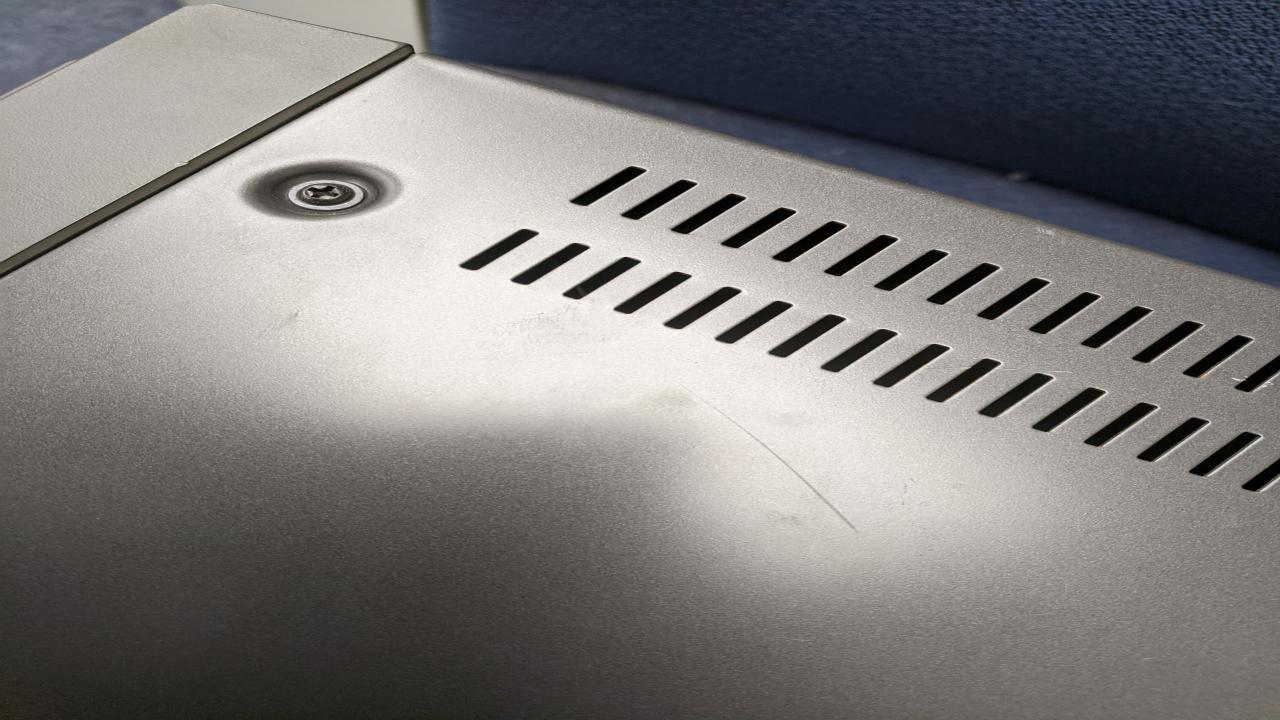CRS: (289, 181, 356, 207)
